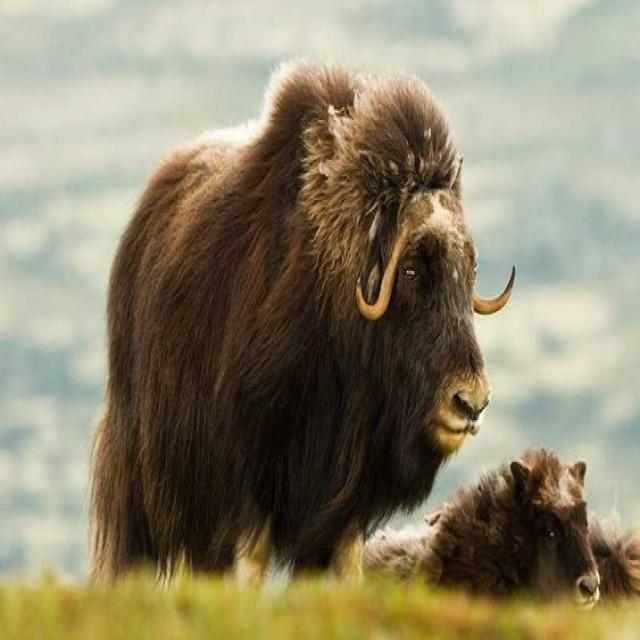Herbivorous: (88, 56, 510, 591)
